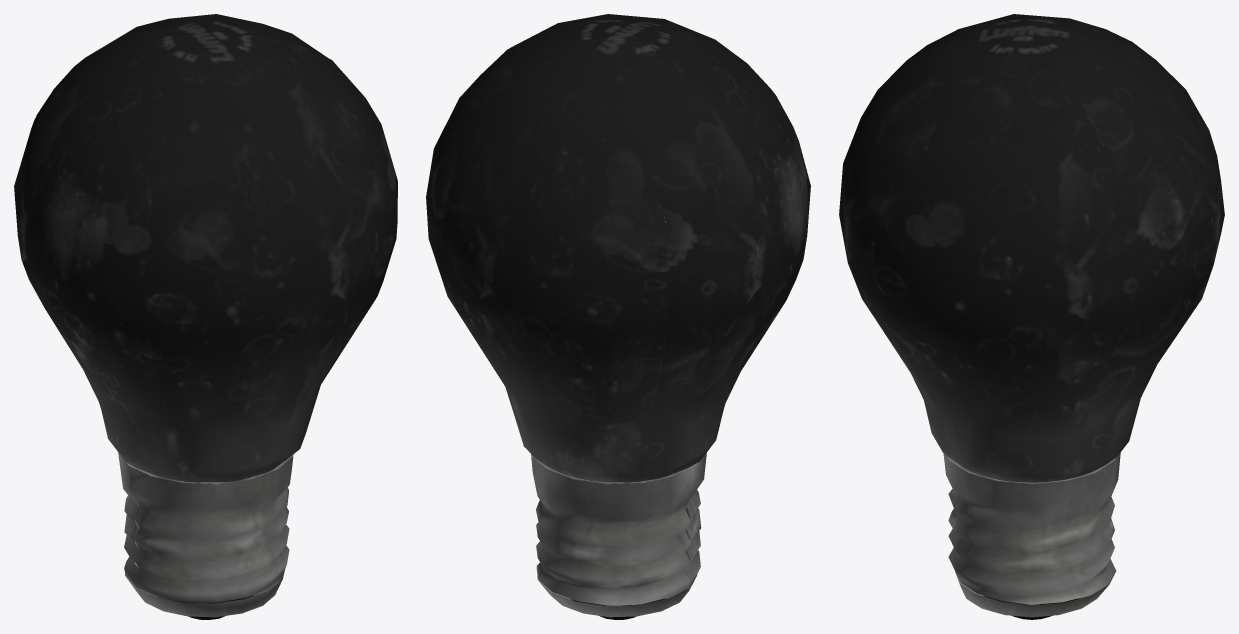
File: ph_lightbulb_01.glb
3 renders of one model, left to right at view 1: azimuth 30°, elevation 25°; view 2: azimuth 150°, elevation 25°; view 3: azimuth 270°, elevation 25°, orthographic.
Visible parts, largest first — view 1: lightbulb_01; view 2: lightbulb_01; view 3: lightbulb_01.
Part boxes in pixels (x1,y1,x2,y2): lightbulb_01: [14, 14, 397, 619]; lightbulb_01: [426, 14, 810, 619]; lightbulb_01: [839, 14, 1224, 619].
Size of the model in its own units: 0.06 by 0.1003 by 0.06.
2 materials, 2 textured.
